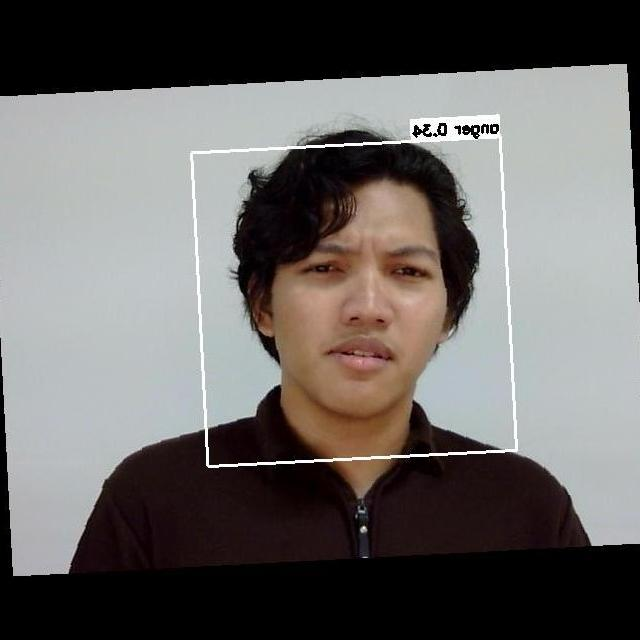Fear: (263, 215, 461, 397)
